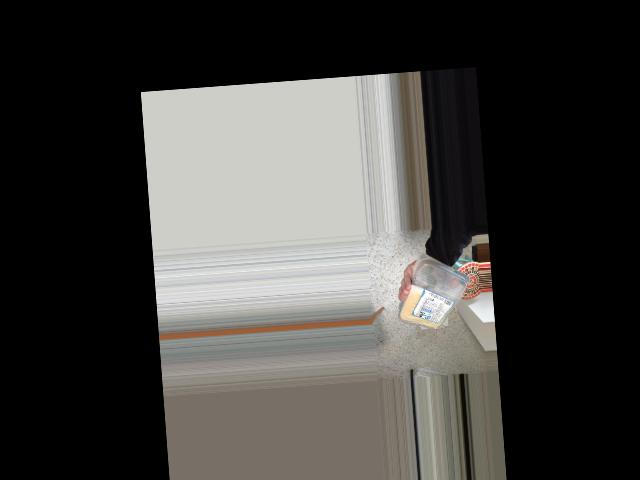cheese: (403, 259, 474, 338)
